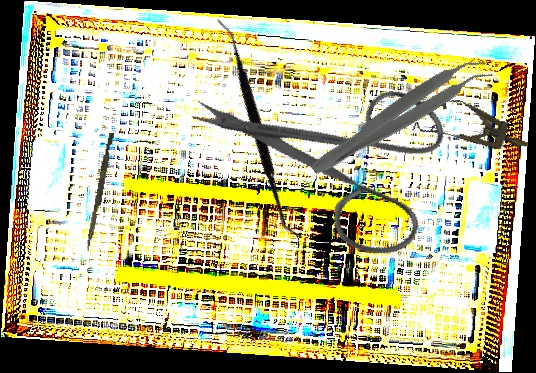Iris Scissors: (182, 23, 478, 304)
Pusher: (85, 132, 115, 252)
Spatula Surgical: (142, 15, 377, 242)
Speculum: (412, 89, 535, 166)
Tissue Forceps: (305, 47, 496, 189)
